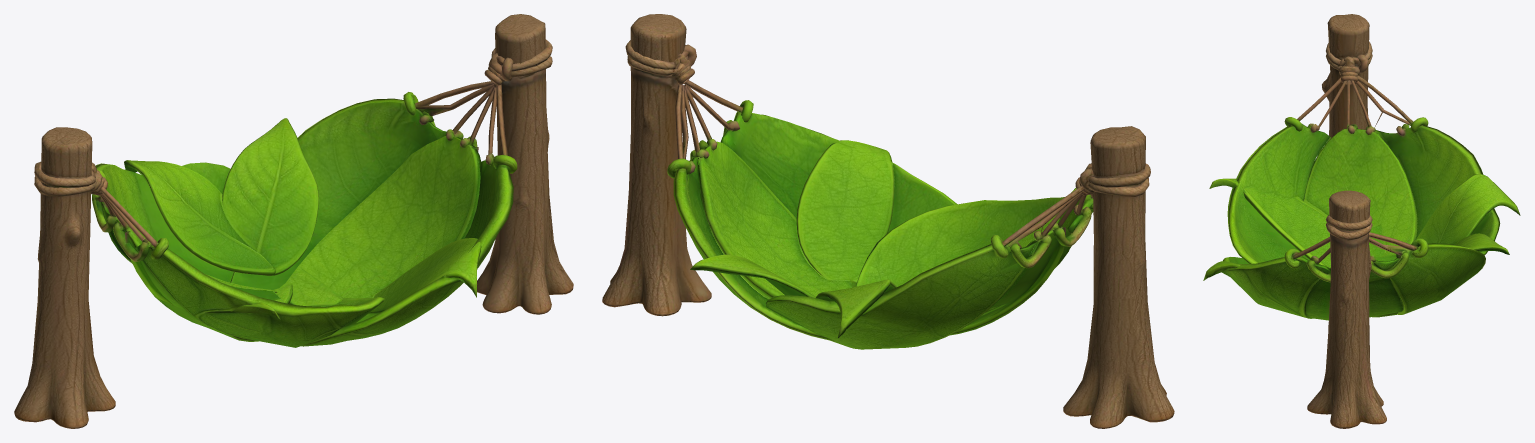
File: Hammock_Separated.fbx
3 views of the same model, side by side, from view 1: azimuth 30°, elevation 25°; view 2: azimuth 150°, elevation 25°; view 3: azimuth 270°, elevation 25° (orthographic). The views are drawn at different scales.
Parts seen in each view (by area): view 1: HammockBed, Tree, Tree2, RopeAnchor_L, RopeAnchor_R; view 2: HammockBed, Tree, Tree2, RopeAnchor_L, RopeAnchor_R; view 3: HammockBed, Tree2, Tree, RopeAnchor_L, RopeAnchor_R.
Part boxes in pixels (<box>): HammockBed: <box>92,81,517,347</box>; Tree: <box>14,127,115,428</box>; Tree2: <box>477,14,573,314</box>; RopeAnchor_L: <box>34,161,107,196</box>; RopeAnchor_R: <box>484,39,552,85</box>; HammockBed: <box>667,80,1093,349</box>; Tree: <box>1063,126,1174,428</box>; Tree2: <box>602,14,711,316</box>; RopeAnchor_L: <box>1075,163,1150,196</box>; RopeAnchor_R: <box>625,40,696,84</box>; HammockBed: <box>1203,75,1520,320</box>; Tree2: <box>1307,190,1386,428</box>; Tree: <box>1322,14,1369,140</box>; RopeAnchor_L: <box>1326,41,1372,85</box>; RopeAnchor_R: <box>1326,215,1372,240</box>.
Size of the model in its own units: 99.95 by 46.73 by 62.65.
